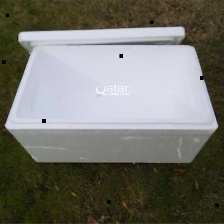foam_box: (1, 20, 221, 167)
